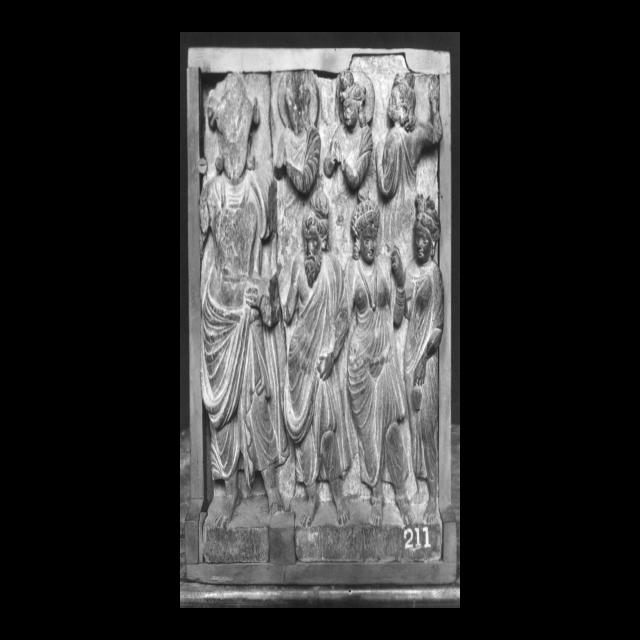buddha-standing: (200, 73, 284, 529)
